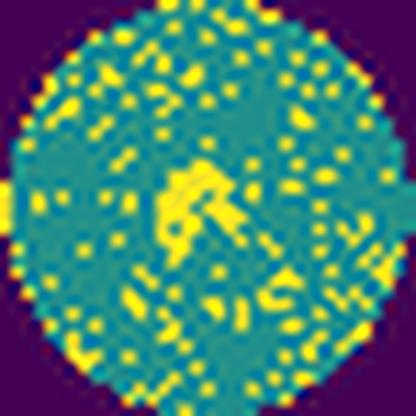Center: (152, 156, 251, 274)
